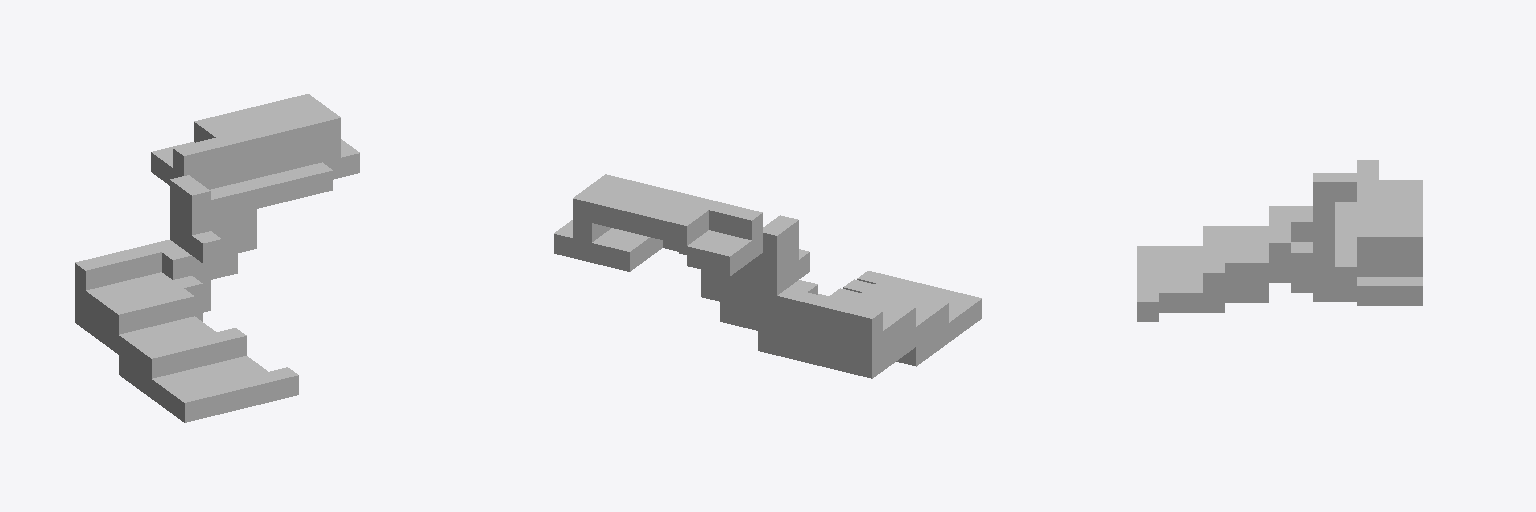
Rendered from gun_part2.obj.
3 views of the same model, side by side, from view 1: azimuth 30°, elevation 25°; view 2: azimuth 150°, elevation 25°; view 3: azimuth 270°, elevation 25° (orthographic).
Visible parts, largest first — view 1: Cube.001; view 2: Cube.001; view 3: Cube.001.
Boxes of the visible parts, x1,y1,x2,y2 form: Cube.001: [75, 94, 359, 422]; Cube.001: [554, 174, 981, 378]; Cube.001: [1137, 160, 1422, 321].
Size of the model in its own units: 1.85 by 0.9861 by 1.6.